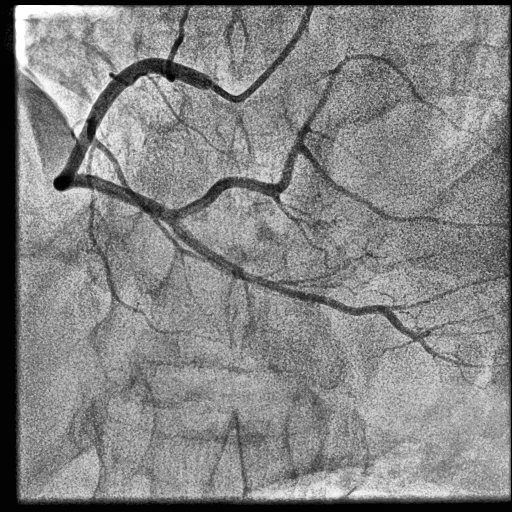pborca: (177, 55, 460, 219)
pda: (169, 220, 438, 360)
rca: (54, 58, 205, 225)
